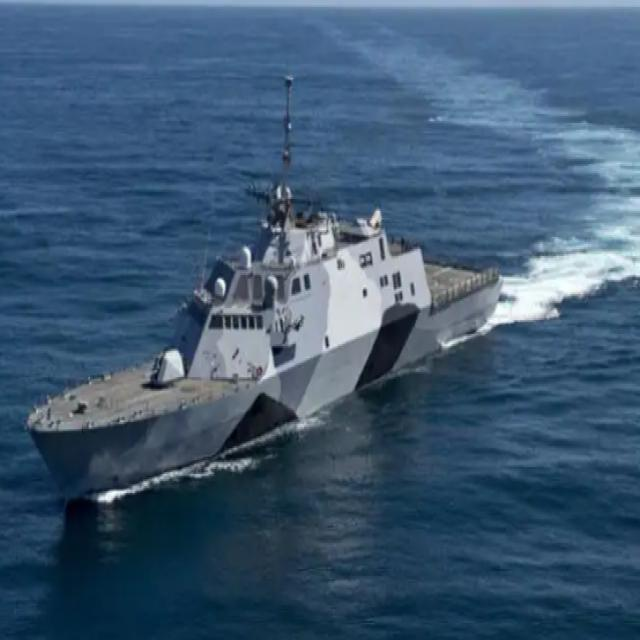navalvessels: (32, 66, 506, 508)
